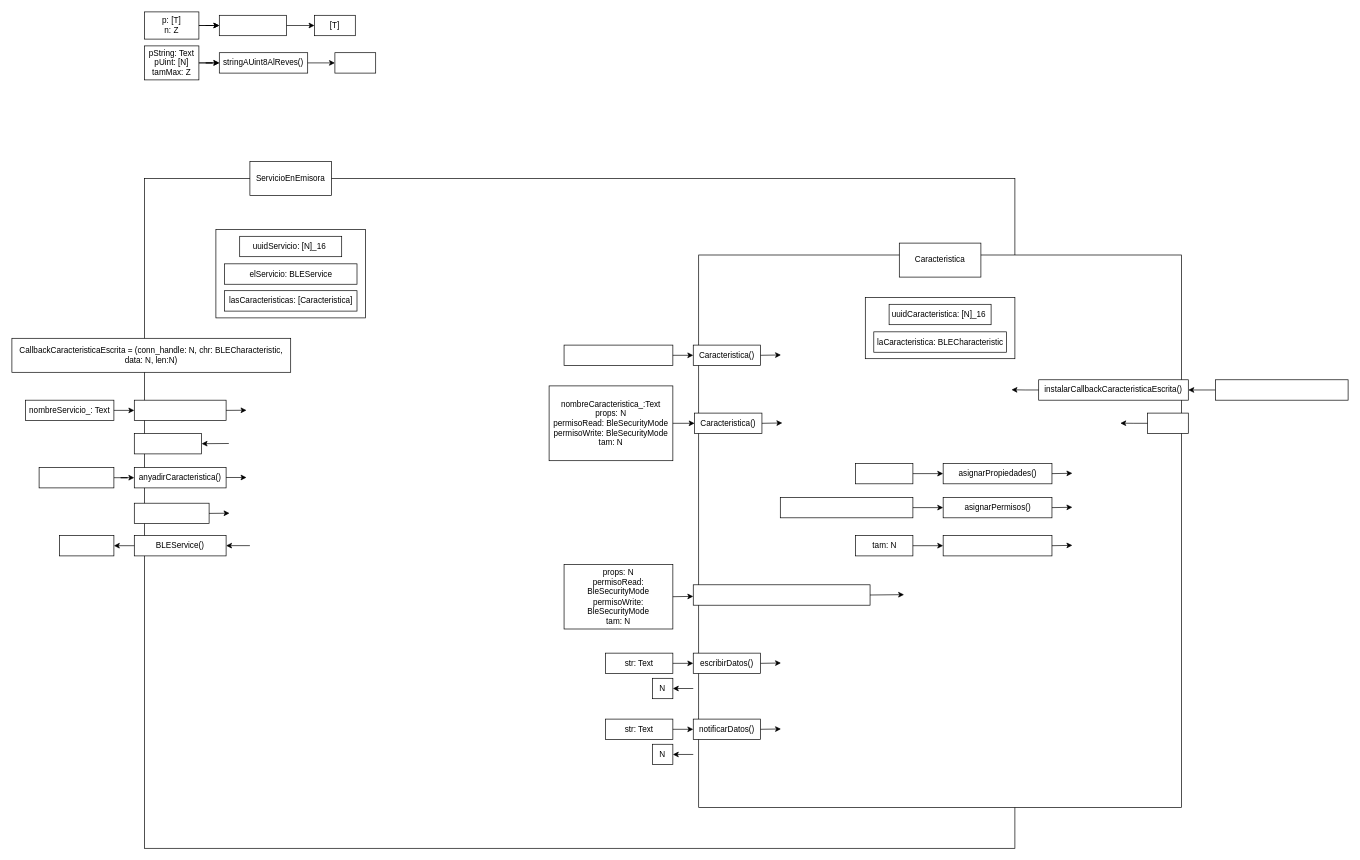
This 1360x860 diagram has some shape labels left out. Here are the shapes that lost their labels. From the top down, the centre of each, then its label:
At pixel 253 25: "alReves()".
At pixel 355 62: "[N]".
At pixel 618 355: "nombreCaracteristica_:Text".
At pixel 1281 389: "cb: CallbackCaracteristicaEscrita".
At pixel 180 410: "ServicioEnEmisora()".
At pixel 1167 423: "activar()".
At pixel 168 443: "escribeUUID()".
At pixel 76 477: "car: Caracteristica".
At pixel 884 473: "props: N".
At pixel 171 513: "activarServicio()".
At pixel 846 507: "permisoWrite: BleSecurityMode permisoRead: BleSecurityMode".
At pixel 86 545: "BLEService".
At pixel 997 545: "asignarTamanyoDatos()".
At pixel 781 594: "asignarPropiedadesPermisosYTamanyoDatos".
